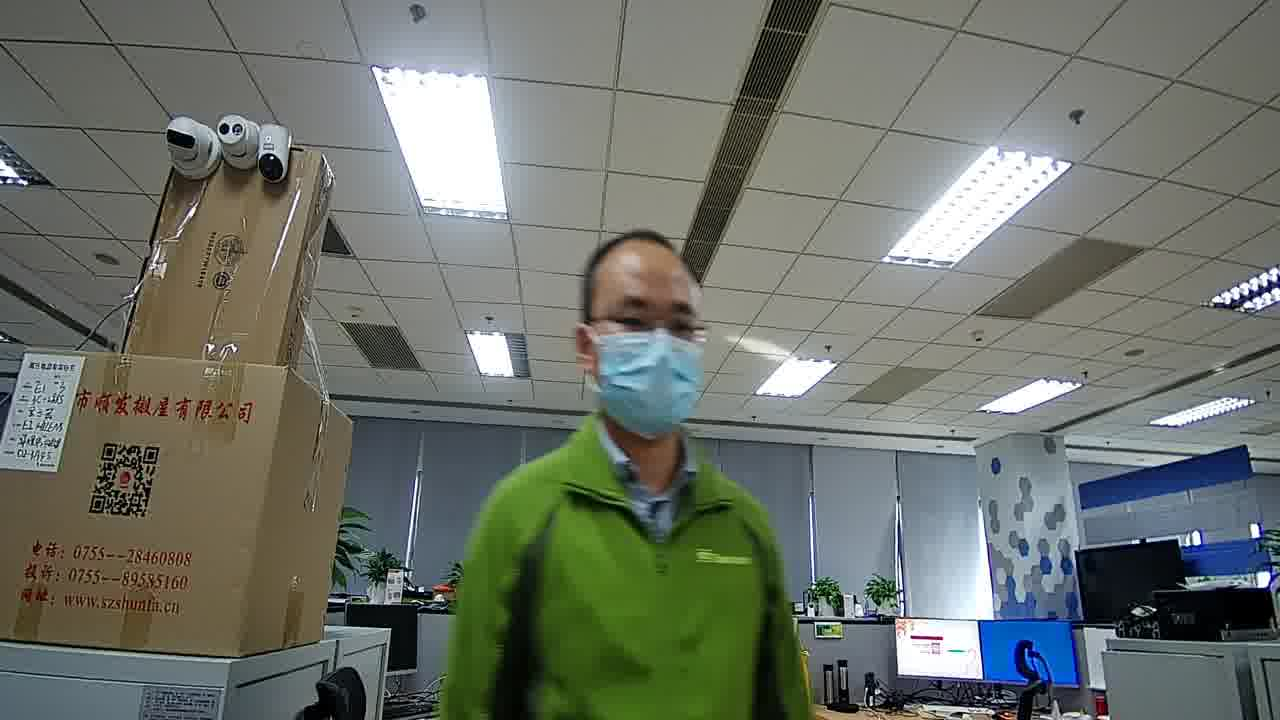face: (589, 255, 701, 444)
mask: (591, 325, 700, 441)
person: (464, 210, 781, 568)
